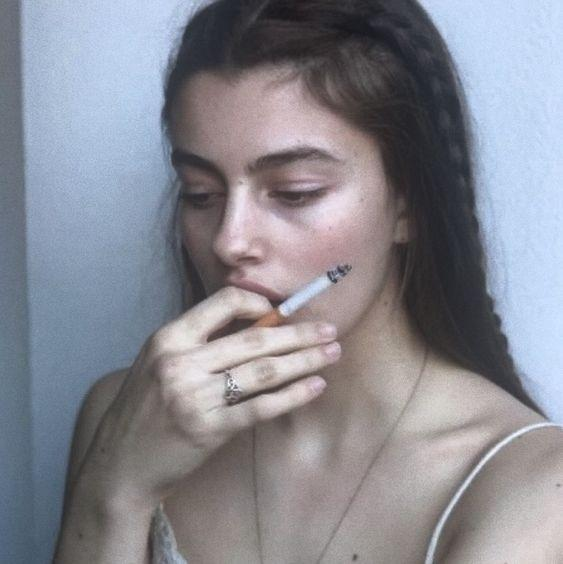cigarette: (250, 263, 353, 327)
